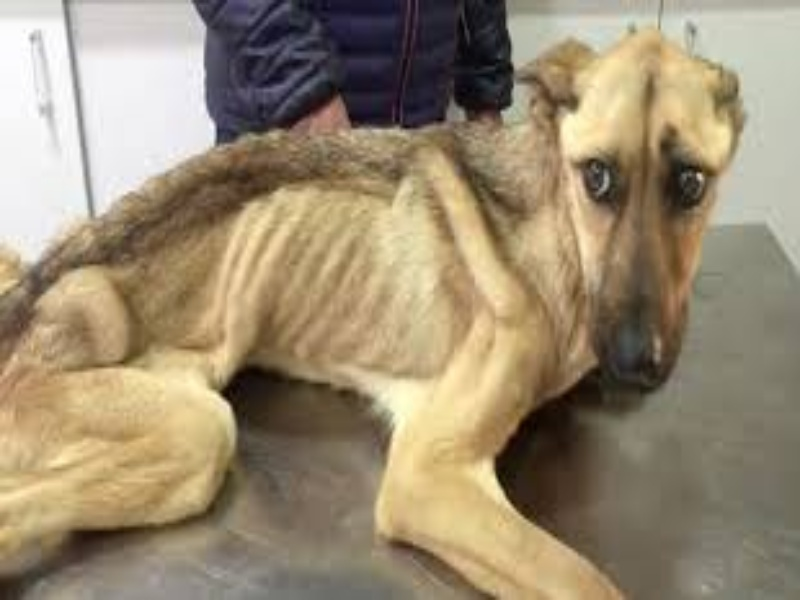dog: (31, 32, 755, 600)
